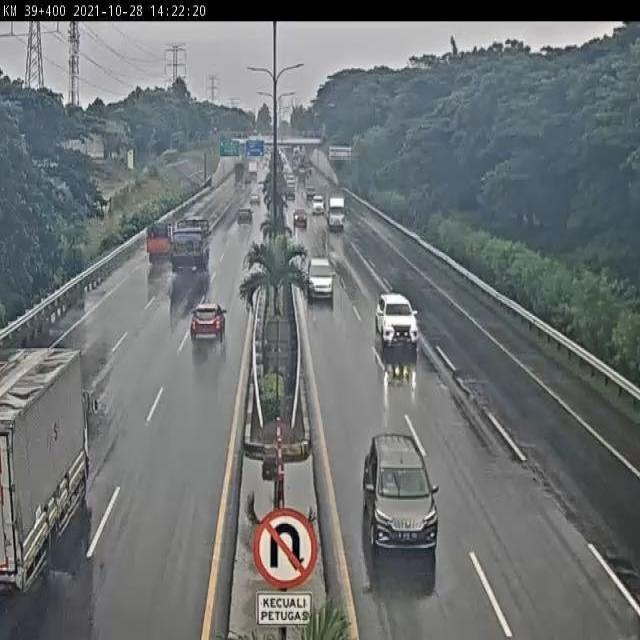Car: (345, 424, 450, 562), (185, 292, 236, 349), (372, 291, 419, 351), (299, 250, 342, 300), (292, 202, 308, 233), (234, 204, 253, 229)
Truck: (0, 340, 98, 587), (169, 217, 216, 272), (139, 214, 177, 269), (323, 192, 349, 232), (309, 189, 325, 218)
